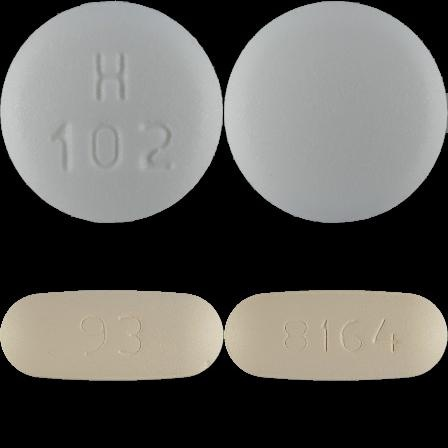61786-976: (0, 0, 224, 224)
